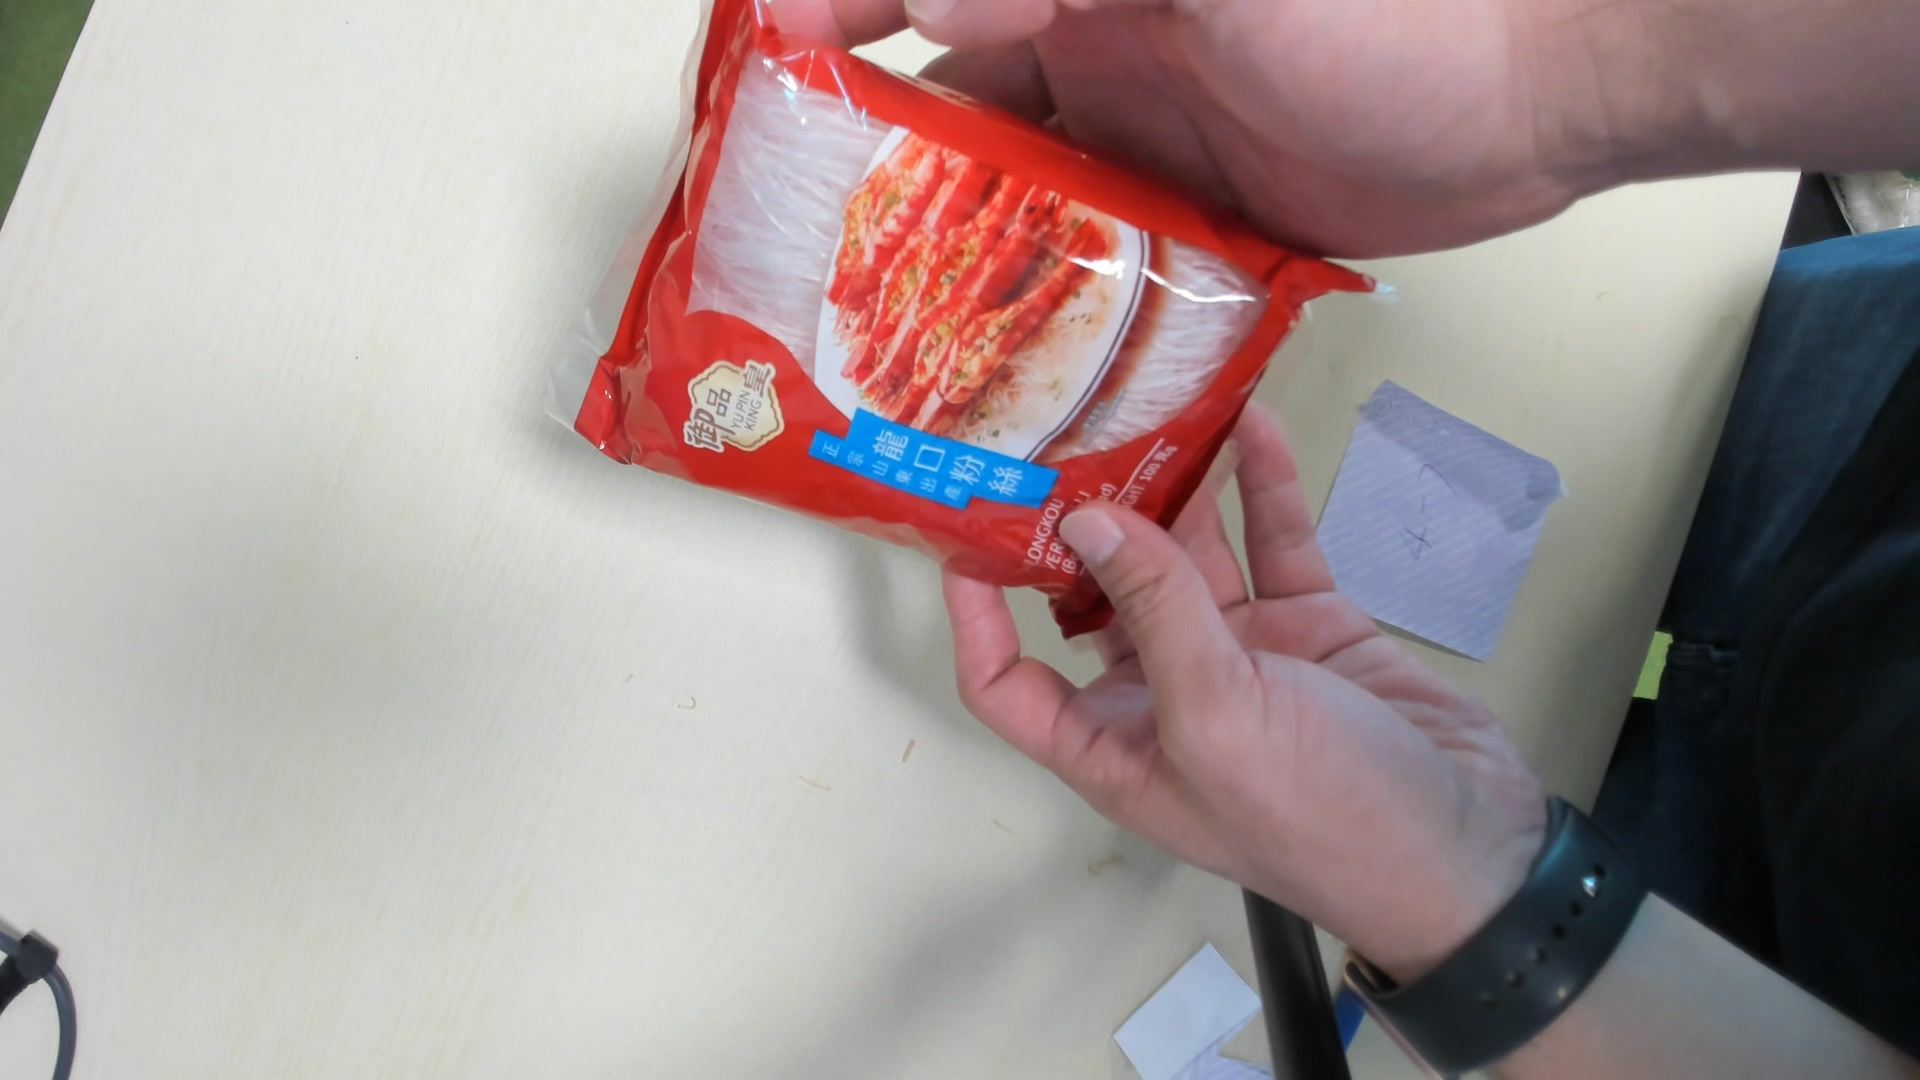BeeHoonVermicelli_100-199g_NonHalal_NonHealthy: (567, 8, 1296, 618)
